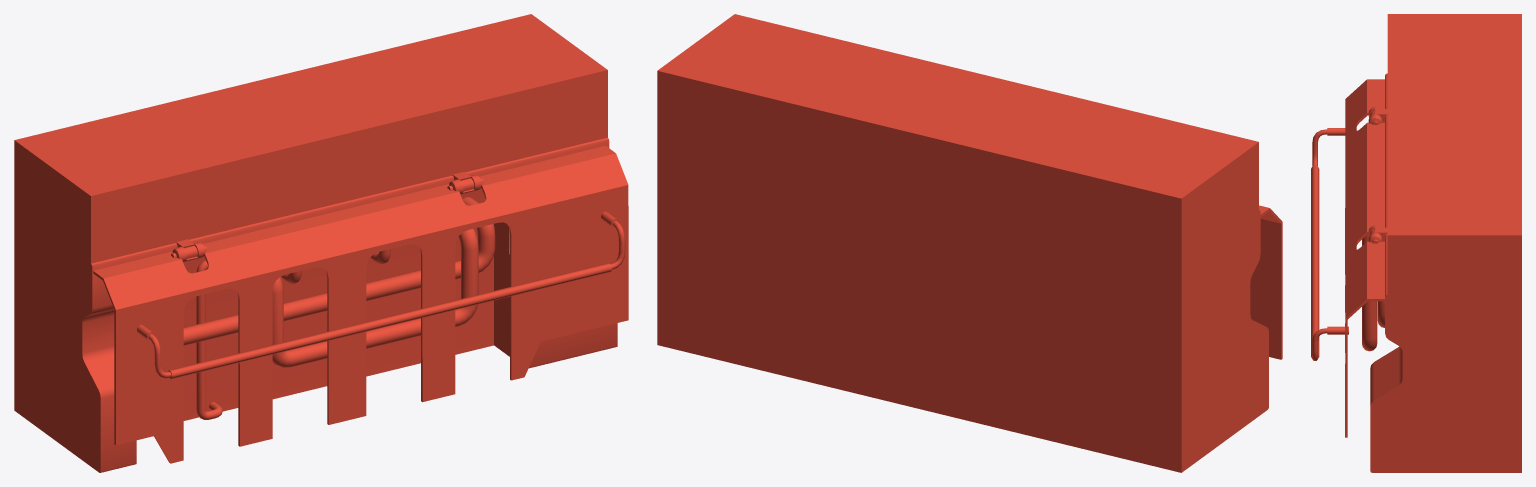
File: Wall_Under_Floor_B.FBX
The picture shows the model from 3 angles, left to right: view 1: azimuth 30°, elevation 25°; view 2: azimuth 150°, elevation 25°; view 3: azimuth 270°, elevation 25°; orthographic projection. The views are drawn at different scales.
Visible parts, largest first — view 1: Wall_Under_Floor_B_04_LP, Wall_Under_Floor_B_00_LP, Wall_Under_Floor_B_02_LP, Wall_Under_Floor_B_01_LP, Wall_Under_Floor_B_03_LP; view 2: Wall_Under_Floor_B_04_LP, Wall_Under_Floor_B_00_LP; view 3: Wall_Under_Floor_B_04_LP, Wall_Under_Floor_B_00_LP, Wall_Under_Floor_B_01_LP, Wall_Under_Floor_B_02_LP, Wall_Under_Floor_B_03_LP.
Part boxes in pixels (x1=…): Wall_Under_Floor_B_04_LP: x1=14, y1=14, x2=617, y2=472; Wall_Under_Floor_B_00_LP: x1=93, y1=145, x2=628, y2=463; Wall_Under_Floor_B_02_LP: x1=183, y1=197, x2=495, y2=419; Wall_Under_Floor_B_01_LP: x1=137, y1=211, x2=625, y2=379; Wall_Under_Floor_B_03_LP: x1=171, y1=171, x2=483, y2=262; Wall_Under_Floor_B_04_LP: x1=657, y1=14, x2=1268, y2=472; Wall_Under_Floor_B_00_LP: x1=1250, y1=205, x2=1282, y2=359; Wall_Under_Floor_B_04_LP: x1=1370, y1=14, x2=1521, y2=472; Wall_Under_Floor_B_00_LP: x1=1345, y1=79, x2=1384, y2=437; Wall_Under_Floor_B_01_LP: x1=1311, y1=128, x2=1348, y2=360; Wall_Under_Floor_B_02_LP: x1=1362, y1=234, x2=1384, y2=351; Wall_Under_Floor_B_03_LP: x1=1368, y1=107, x2=1387, y2=243.
Bounding box in the file's own units: 400 × 200 × 161.
